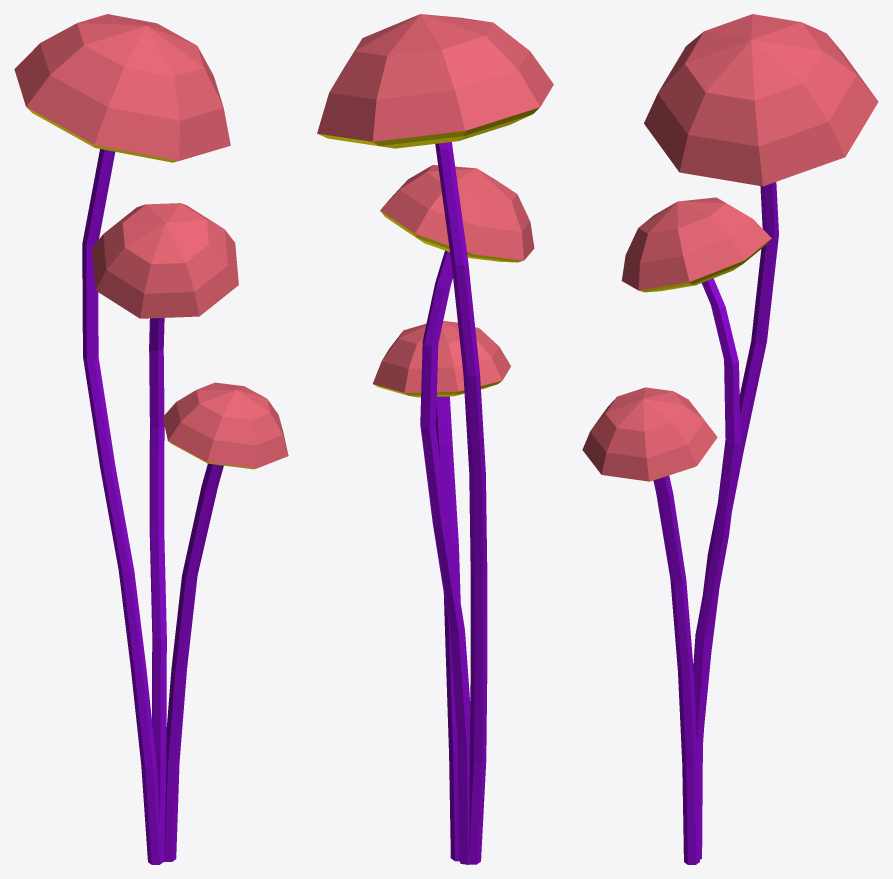
File: tree-mushroom-big.fbx
3 views of the same model, side by side, from view 1: azimuth 30°, elevation 25°; view 2: azimuth 150°, elevation 25°; view 3: azimuth 270°, elevation 25° (orthographic). The views are drawn at different scales.
Parts seen in each view (by area): view 1: tree-mushroom-big; view 2: tree-mushroom-big; view 3: tree-mushroom-big.
Part boxes in pixels (x1,y1,x2,y2): tree-mushroom-big: (14, 14, 288, 864); tree-mushroom-big: (317, 14, 553, 864); tree-mushroom-big: (582, 14, 878, 864).
Size of the model in its own units: 2.05 by 7.79 by 2.53.
